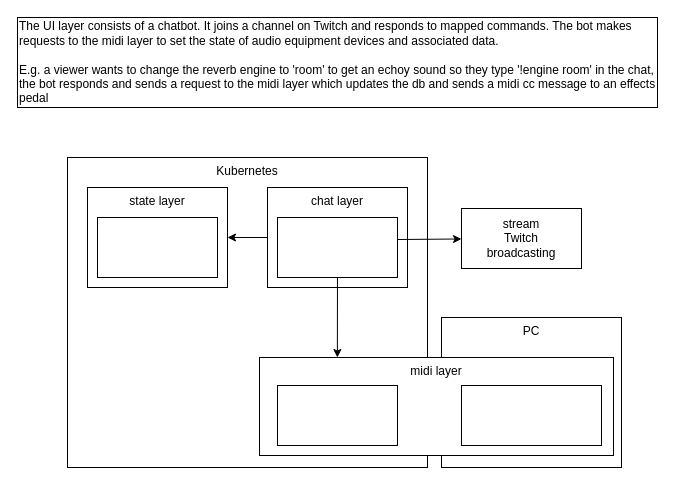
Some shapes in this 675 by 485 pixel diagram are drawn without their labels. The centre of each missing label's shape, as x and y in pixels:
"Container python chatbot" goes at (x=337, y=247).
"data requests" goes at (x=337, y=415).
"device requests" goes at (x=531, y=415).
"publish overlay update" goes at (x=157, y=247).
